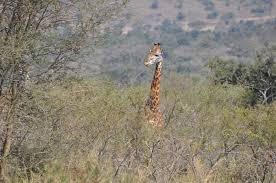giraffe: (130, 41, 177, 183)
